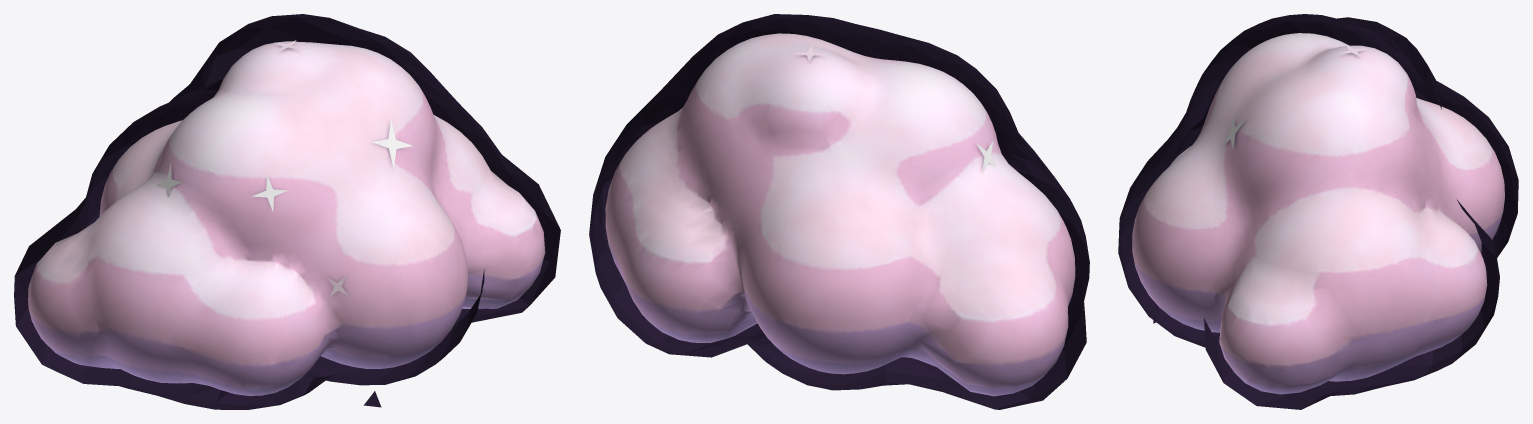
Rendered from SoftenerPuff.glb.
3 views of the same model, side by side, from view 1: azimuth 30°, elevation 25°; view 2: azimuth 150°, elevation 25°; view 3: azimuth 270°, elevation 25° (orthographic). The views are drawn at different scales.
Visible parts, largest first — view 1: SoftenerPuff, SoftenerPuff_Outline; view 2: SoftenerPuff, SoftenerPuff_Outline; view 3: SoftenerPuff, SoftenerPuff_Outline.
Part boxes in pixels (x1,y1,x2,y2): SoftenerPuff: [28, 40, 545, 395]; SoftenerPuff_Outline: [14, 14, 560, 409]; SoftenerPuff: [605, 33, 1075, 396]; SoftenerPuff_Outline: [589, 14, 1089, 409]; SoftenerPuff: [1132, 33, 1504, 394]; SoftenerPuff_Outline: [1118, 14, 1518, 409].
Size of the model in its own units: 3.4 by 2.09 by 2.5.
2 materials, 2 textured.
